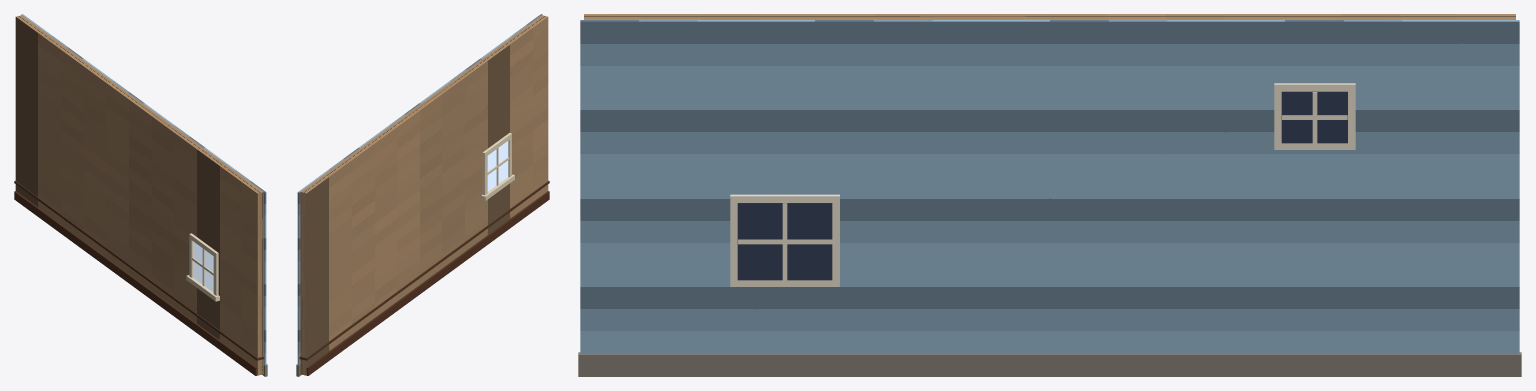
Rendered from right.glb.
3 views of the same model, side by side, from view 1: azimuth 30°, elevation 25°; view 2: azimuth 150°, elevation 25°; view 3: azimuth 270°, elevation 25° (orthographic). The views are drawn at different scales.
Parts seen in each view (by area): view 1: Box1, Box2, Box3, Box20, Box21, Box13, Box10, Box11; view 2: Box1, Box2, Box3, Box21, Box20, Box13, Box10, Box12; view 3: Box3, Box4, Box6, Box1, Box17, Box5, Box16.
Boxes of the visible parts, x1,y1,x2,y2 form: Box1: (15,15,263,375); Box2: (14,191,257,375); Box3: (21,14,266,364); Box20: (17,187,263,375); Box21: (14,181,264,360); Box13: (193,241,213,292); Box10: (186,275,219,301); Box11: (213,256,218,295); Box1: (300,15,548,375); Box2: (306,191,549,375); Box3: (297,14,542,364); Box21: (299,181,549,360); Box20: (300,189,547,374); Box13: (487,141,508,191); Box10: (481,174,514,200); Box12: (482,156,487,195); Box3: (580,20,1519,354); Box4: (578,352,1521,376); Box6: (737,203,832,280); Box1: (584,14,1515,19); Box17: (1281,91,1347,143); Box5: (730,194,839,286); Box16: (1274,83,1355,149).
Size of the model in its own units: 0.338 by 4.14 by 9.97.
8 materials, 2 textured.
